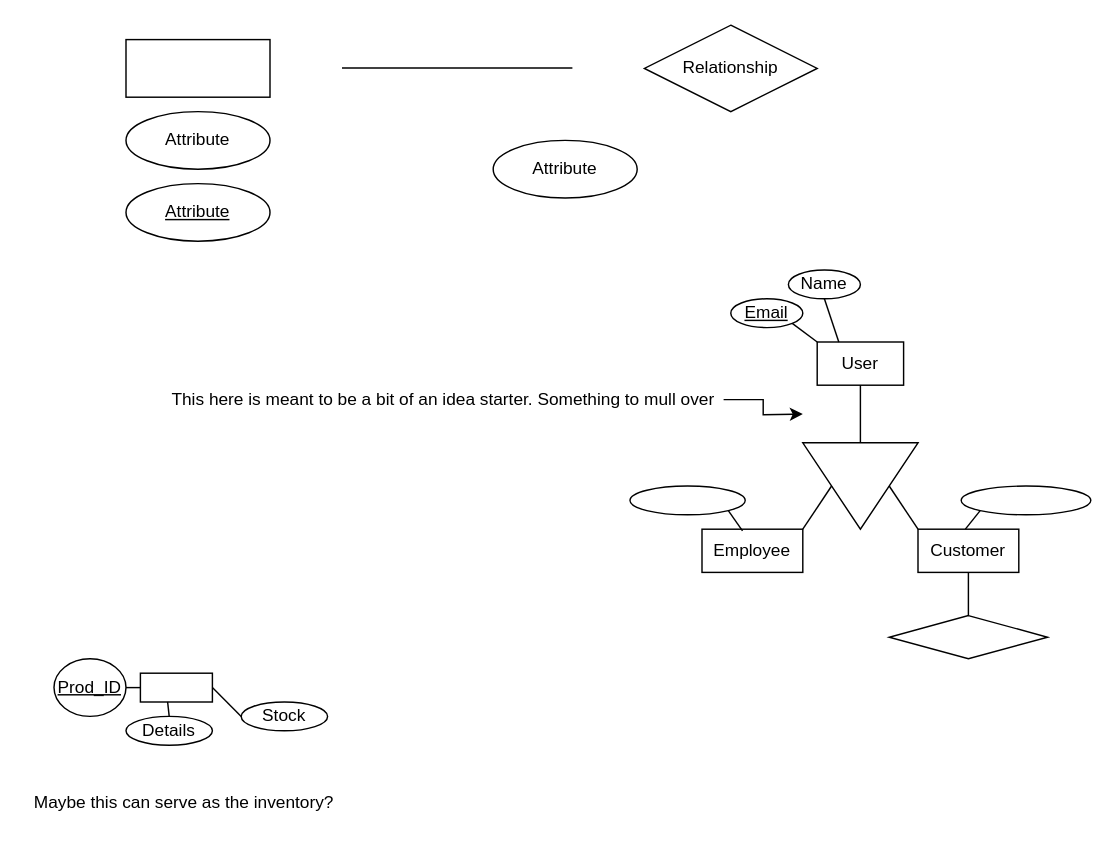
The diagram is 1116 pixels wide and 842 high, and some of its shapes have lost their labels. The shapes that lost their labels are listed below. From the top down, each one's centre as x and y in pixels, then its label:
pixel 197 67: Entity
pixel 687 500: Employee_ID
pixel 859 485: Not sure
pixel 1025 500: Customer_ID
pixel 968 636: Shopping_Cart
pixel 175 687: Product
